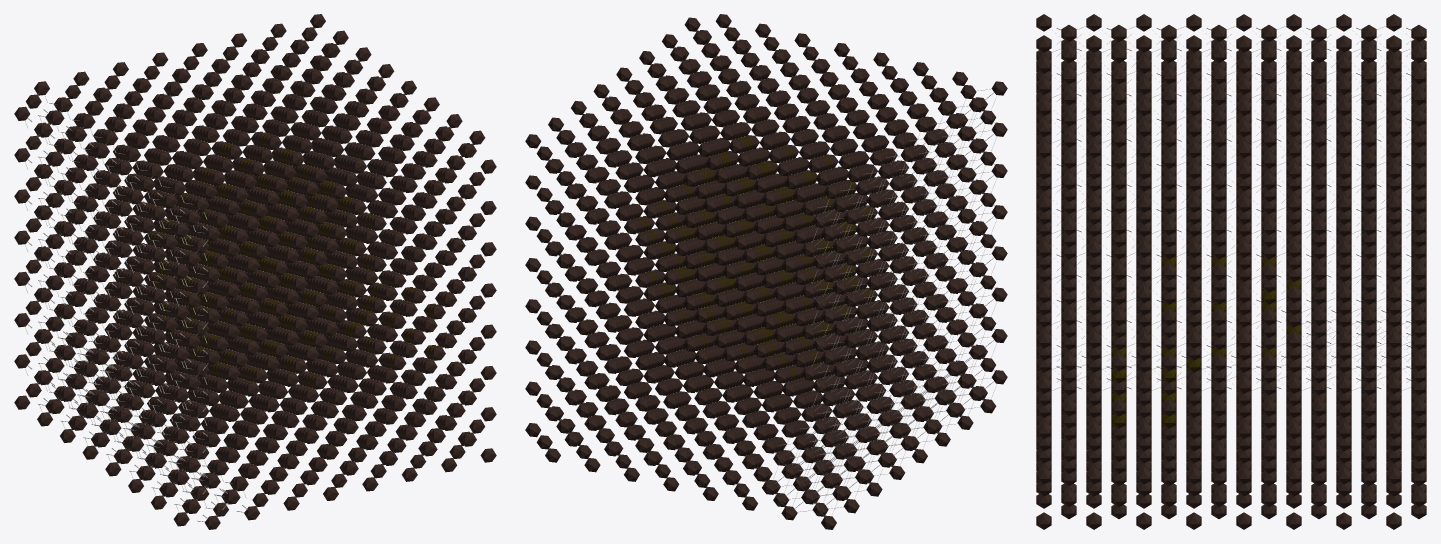
The model's file is ni_superalloy.glb.
3 views of the same model, side by side, from view 1: azimuth 30°, elevation 25°; view 2: azimuth 150°, elevation 25°; view 3: azimuth 270°, elevation 25° (orthographic). The views are drawn at different scales.
Size of the model in its own units: 27.47 by 27.47 by 27.47.
